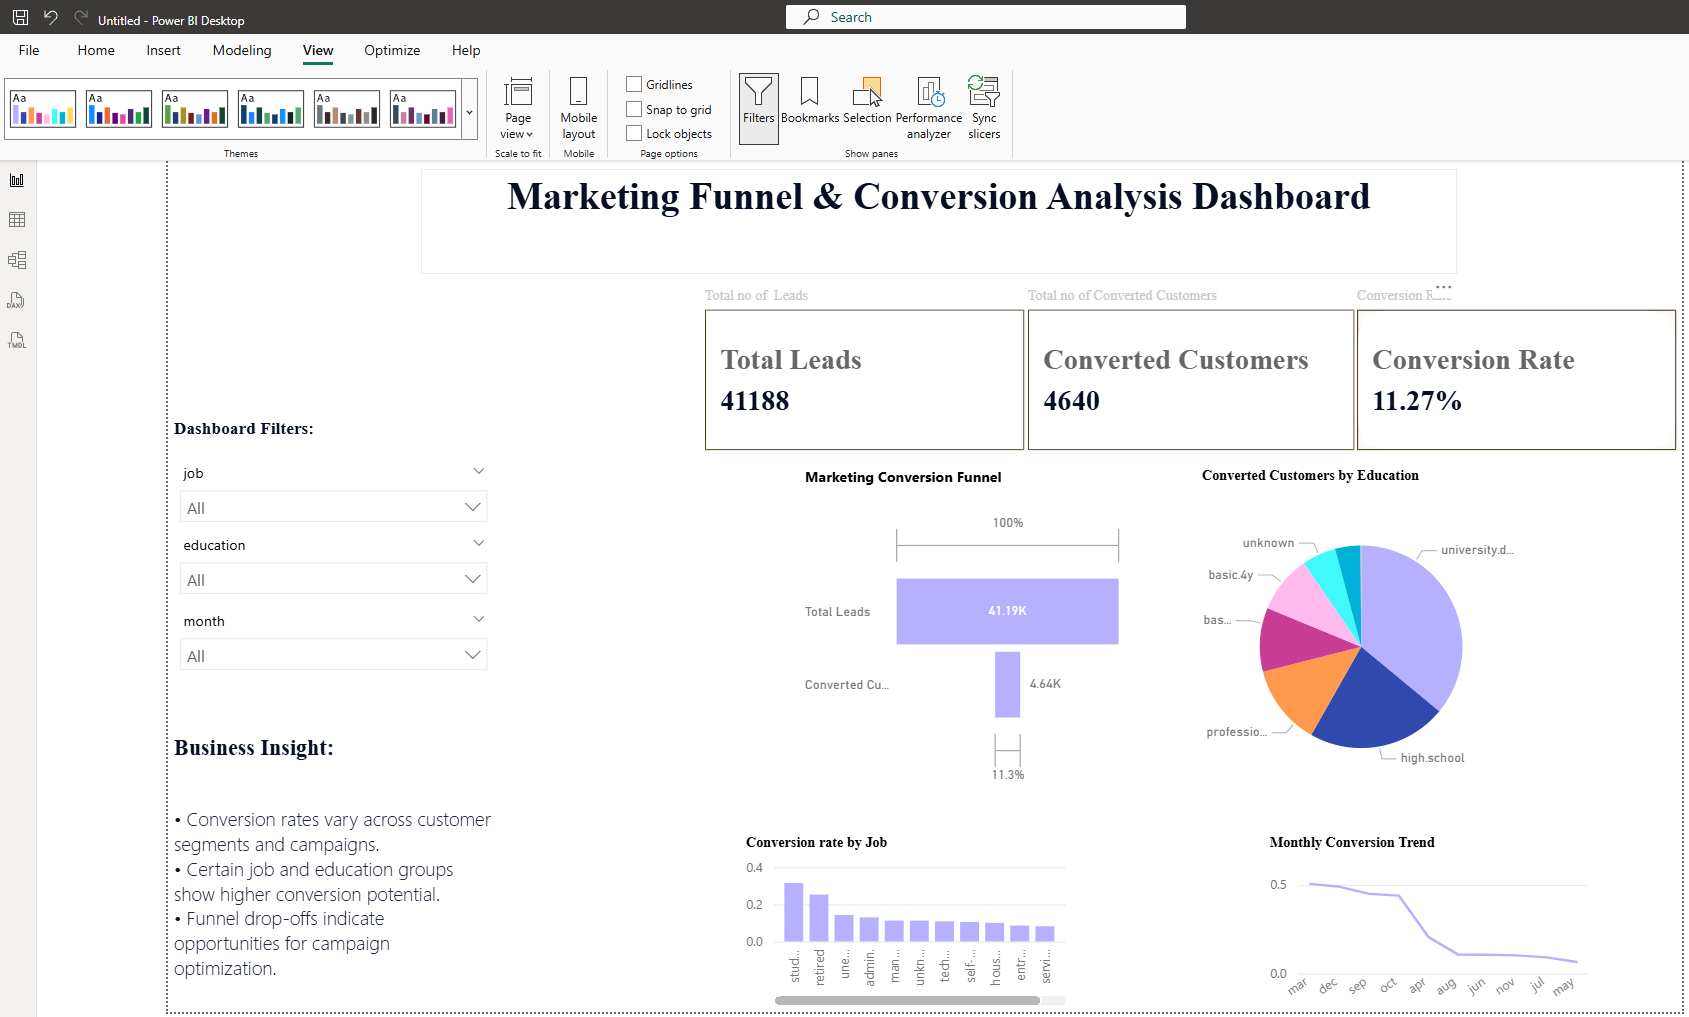

What the dashboard file says about the page in this screenshot:
{"tool":"powerbi","page":{"name":"Page 1","canvas":[1280,720],"ordinal":0},"visuals":[{"type":"cardVisual","title":"Total no of  Leads","fields":{"Data":["CountNonNull(cleaned_marketing_data.Converted)"]},"box":[448.4,107,280.1,144],"z":0},{"type":"cardVisual","title":"Total no of Converted Customers","fields":{"Data":["Sum(cleaned_marketing_data.Converted)"]},"box":[721.7,107,286.9,144],"z":1000},{"type":"cardVisual","title":"Conversion Rate","fields":{"Data":["cleaned_marketing_data.Conversion Rate"]},"box":[999.9,107,280.1,144],"z":2000},{"type":"funnel","title":"Marketing Conversion Funnel","fields":{"Y":["CountNonNull(cleaned_marketing_data.Converted)","Sum(cleaned_marketing_data.Converted)1"]},"box":[533,259.7,280.1,289.8],"z":3000},{"type":"clusteredColumnChart","title":"Conversion rate by Job","fields":{"Category":["cleaned_marketing_data.job"],"Y":["Avg(cleaned_marketing_data.Converted)"]},"box":[483.4,570,280.1,149.8],"z":4000},{"type":"pieChart","title":"Converted Customers by Education","fields":{"Category":["cleaned_marketing_data.education"],"Y":["Sum(cleaned_marketing_data.Converted)"]},"box":[868.6,259.7,279.1,289.8],"z":5000},{"type":"lineChart","title":"Monthly Conversion Trend","fields":{"Category":["cleaned_marketing_data.month"],"Y":["Avg(cleaned_marketing_data.Converted)"]},"box":[926,570,279.1,149.8],"z":6000},{"type":"slicer","fields":{"Values":["cleaned_marketing_data.job"]},"box":[0,250.9,280.1,69.1],"z":6001},{"type":"slicer","fields":{"Values":["cleaned_marketing_data.education"]},"box":[0,312.2,280.1,94.3],"z":6002},{"type":"slicer","fields":{"Values":["cleaned_marketing_data.month"]},"box":[0,376.4,280.1,74.9],"z":6003},{"type":"textbox","box":[214,7.8,875.4,88.5],"z":6004},{"type":"textbox","box":[0,480.5,280.1,239.3],"z":6005},{"type":"textbox","box":[0,211.1,280.1,39.9],"z":6006}]}

Visuals, with their boxes on the page's 1280x720 design canvas (x1, y1, x2, y2). These are canvas units, not pixel positions in the 1689x1017 screenshot, which may show the page scaled, cropped or inside an application window:
"Total no of  Leads" cardVisual: 448/107/728/251
"Total no of Converted Customers" cardVisual: 722/107/1009/251
"Conversion Rate" cardVisual: 1000/107/1280/251
"Marketing Conversion Funnel" funnel: 533/260/813/550
"Conversion rate by Job" clusteredColumnChart: 483/570/764/720
"Converted Customers by Education" pieChart: 869/260/1148/550
"Monthly Conversion Trend" lineChart: 926/570/1205/720
slicer - cleaned_marketing_data.job: 0/251/280/320
slicer - cleaned_marketing_data.education: 0/312/280/406
slicer - cleaned_marketing_data.month: 0/376/280/451
textbox: 214/8/1089/96
textbox: 0/480/280/720
textbox: 0/211/280/251
